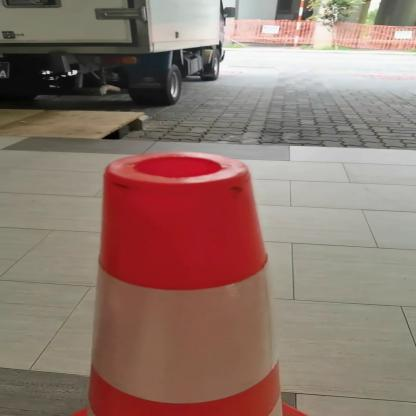cone: (42, 147, 342, 416)
